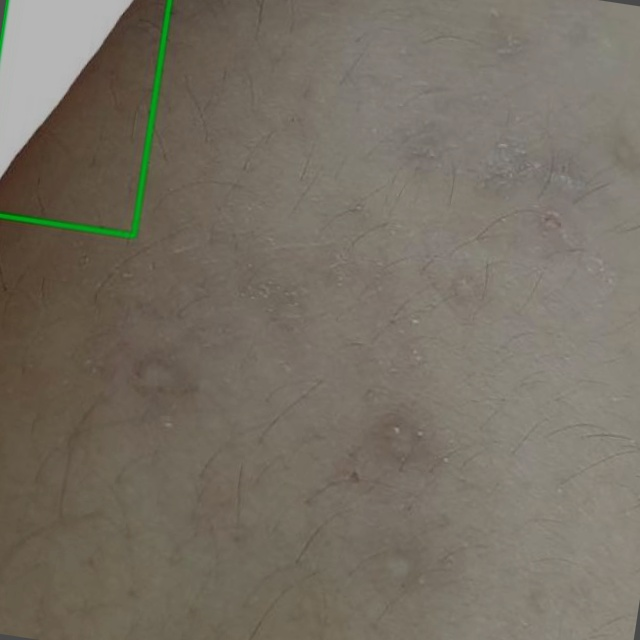Scabies: (0, 0, 169, 234)
